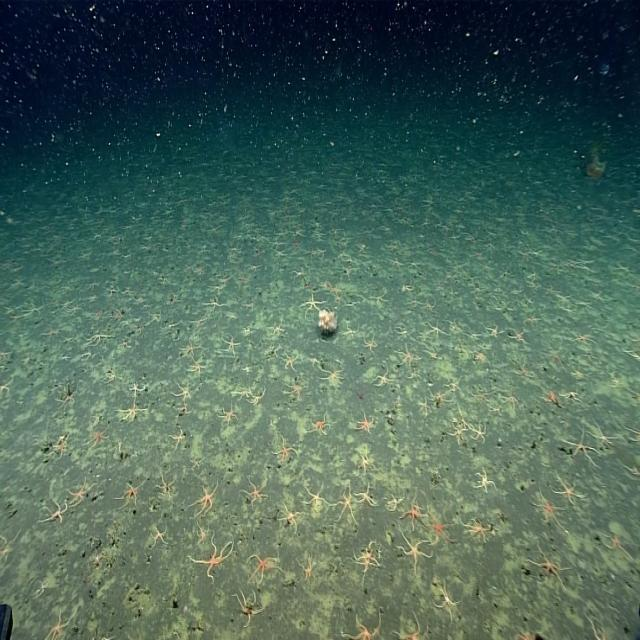brittle-stars: (192, 536, 236, 576), (527, 487, 563, 534), (529, 547, 568, 589), (562, 425, 598, 466), (188, 479, 222, 516), (398, 533, 432, 570), (430, 580, 460, 620), (234, 588, 263, 626), (245, 554, 283, 583), (44, 607, 77, 640), (550, 472, 583, 505), (601, 524, 633, 558), (428, 512, 455, 550), (270, 435, 298, 469), (69, 476, 95, 512), (336, 486, 359, 526), (352, 542, 379, 576), (343, 615, 379, 640), (43, 493, 68, 526), (402, 496, 426, 530), (304, 483, 333, 510), (243, 477, 269, 506), (352, 445, 374, 477), (467, 514, 491, 543), (307, 411, 331, 438), (320, 367, 346, 391), (590, 426, 616, 450), (120, 479, 140, 510), (372, 364, 396, 389), (52, 429, 72, 459), (427, 318, 449, 345), (281, 503, 302, 531), (298, 290, 322, 314), (85, 424, 110, 447), (354, 409, 376, 435), (120, 399, 142, 424), (396, 344, 417, 370), (356, 482, 376, 509), (446, 420, 466, 447), (155, 470, 175, 496), (502, 388, 522, 414), (470, 421, 490, 446), (216, 402, 238, 424), (471, 384, 493, 406), (442, 371, 462, 395), (85, 328, 112, 345), (300, 556, 316, 584), (362, 331, 379, 357), (507, 325, 527, 347), (483, 319, 502, 342), (151, 522, 169, 546), (387, 490, 405, 514), (280, 350, 299, 372), (187, 357, 206, 379), (173, 381, 192, 402), (222, 333, 239, 355), (128, 378, 148, 396), (422, 346, 442, 364), (372, 287, 389, 308), (204, 295, 226, 311), (418, 396, 432, 421), (170, 428, 188, 447), (344, 318, 359, 340), (104, 367, 119, 387), (196, 524, 210, 544), (182, 338, 196, 357), (111, 304, 127, 320), (422, 296, 437, 313), (407, 293, 420, 310), (327, 283, 343, 296)
